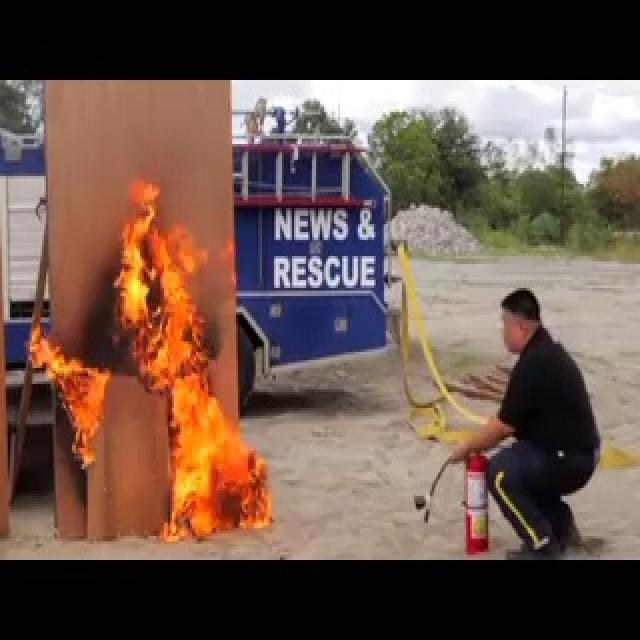fire: (6, 122, 280, 544)
